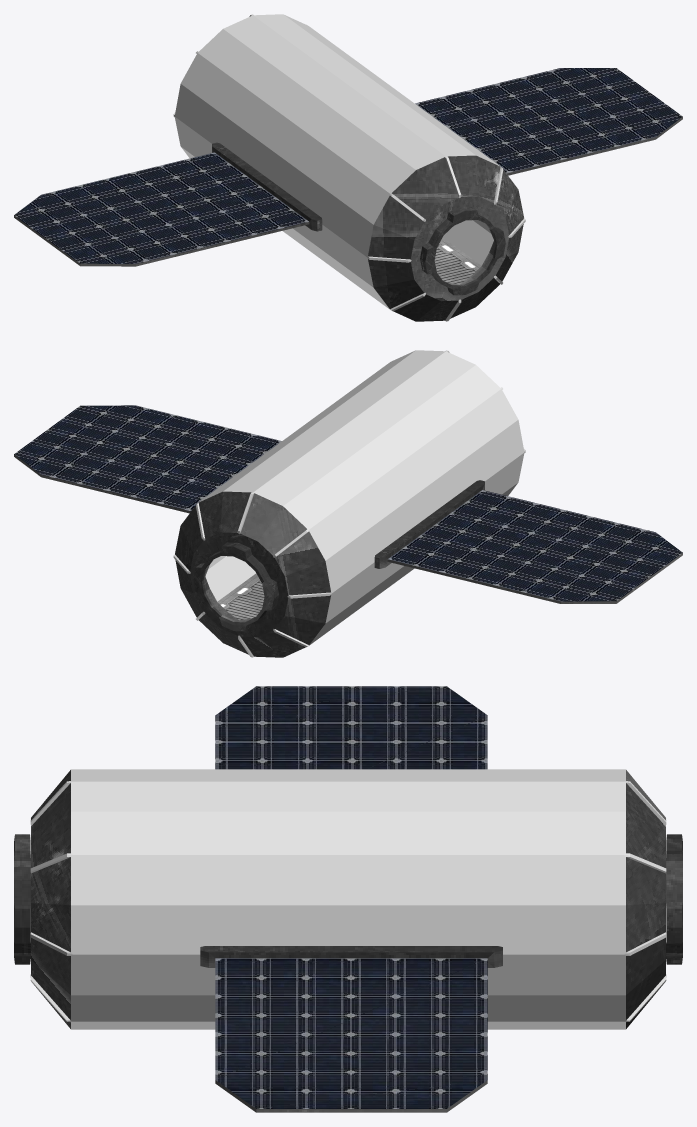
Rendered from station_solar_panel_module.glb.
The picture shows the model from 3 angles, top to bottom: view 1: azimuth 30°, elevation 25°; view 2: azimuth 150°, elevation 25°; view 3: azimuth 270°, elevation 25°; orthographic projection. The views are drawn at different scales.
Visible parts, largest first — view 1: Station Solar Panel Module; view 2: Station Solar Panel Module; view 3: Station Solar Panel Module.
Part boxes in pixels (bbox=[...]): Station Solar Panel Module: bbox=[14, 14, 682, 321]; Station Solar Panel Module: bbox=[14, 350, 682, 657]; Station Solar Panel Module: bbox=[14, 686, 682, 1112].
Size of the model in its own units: 20.38 by 5.3 by 13.62.
Materials: 4 (3 with a texture image).
